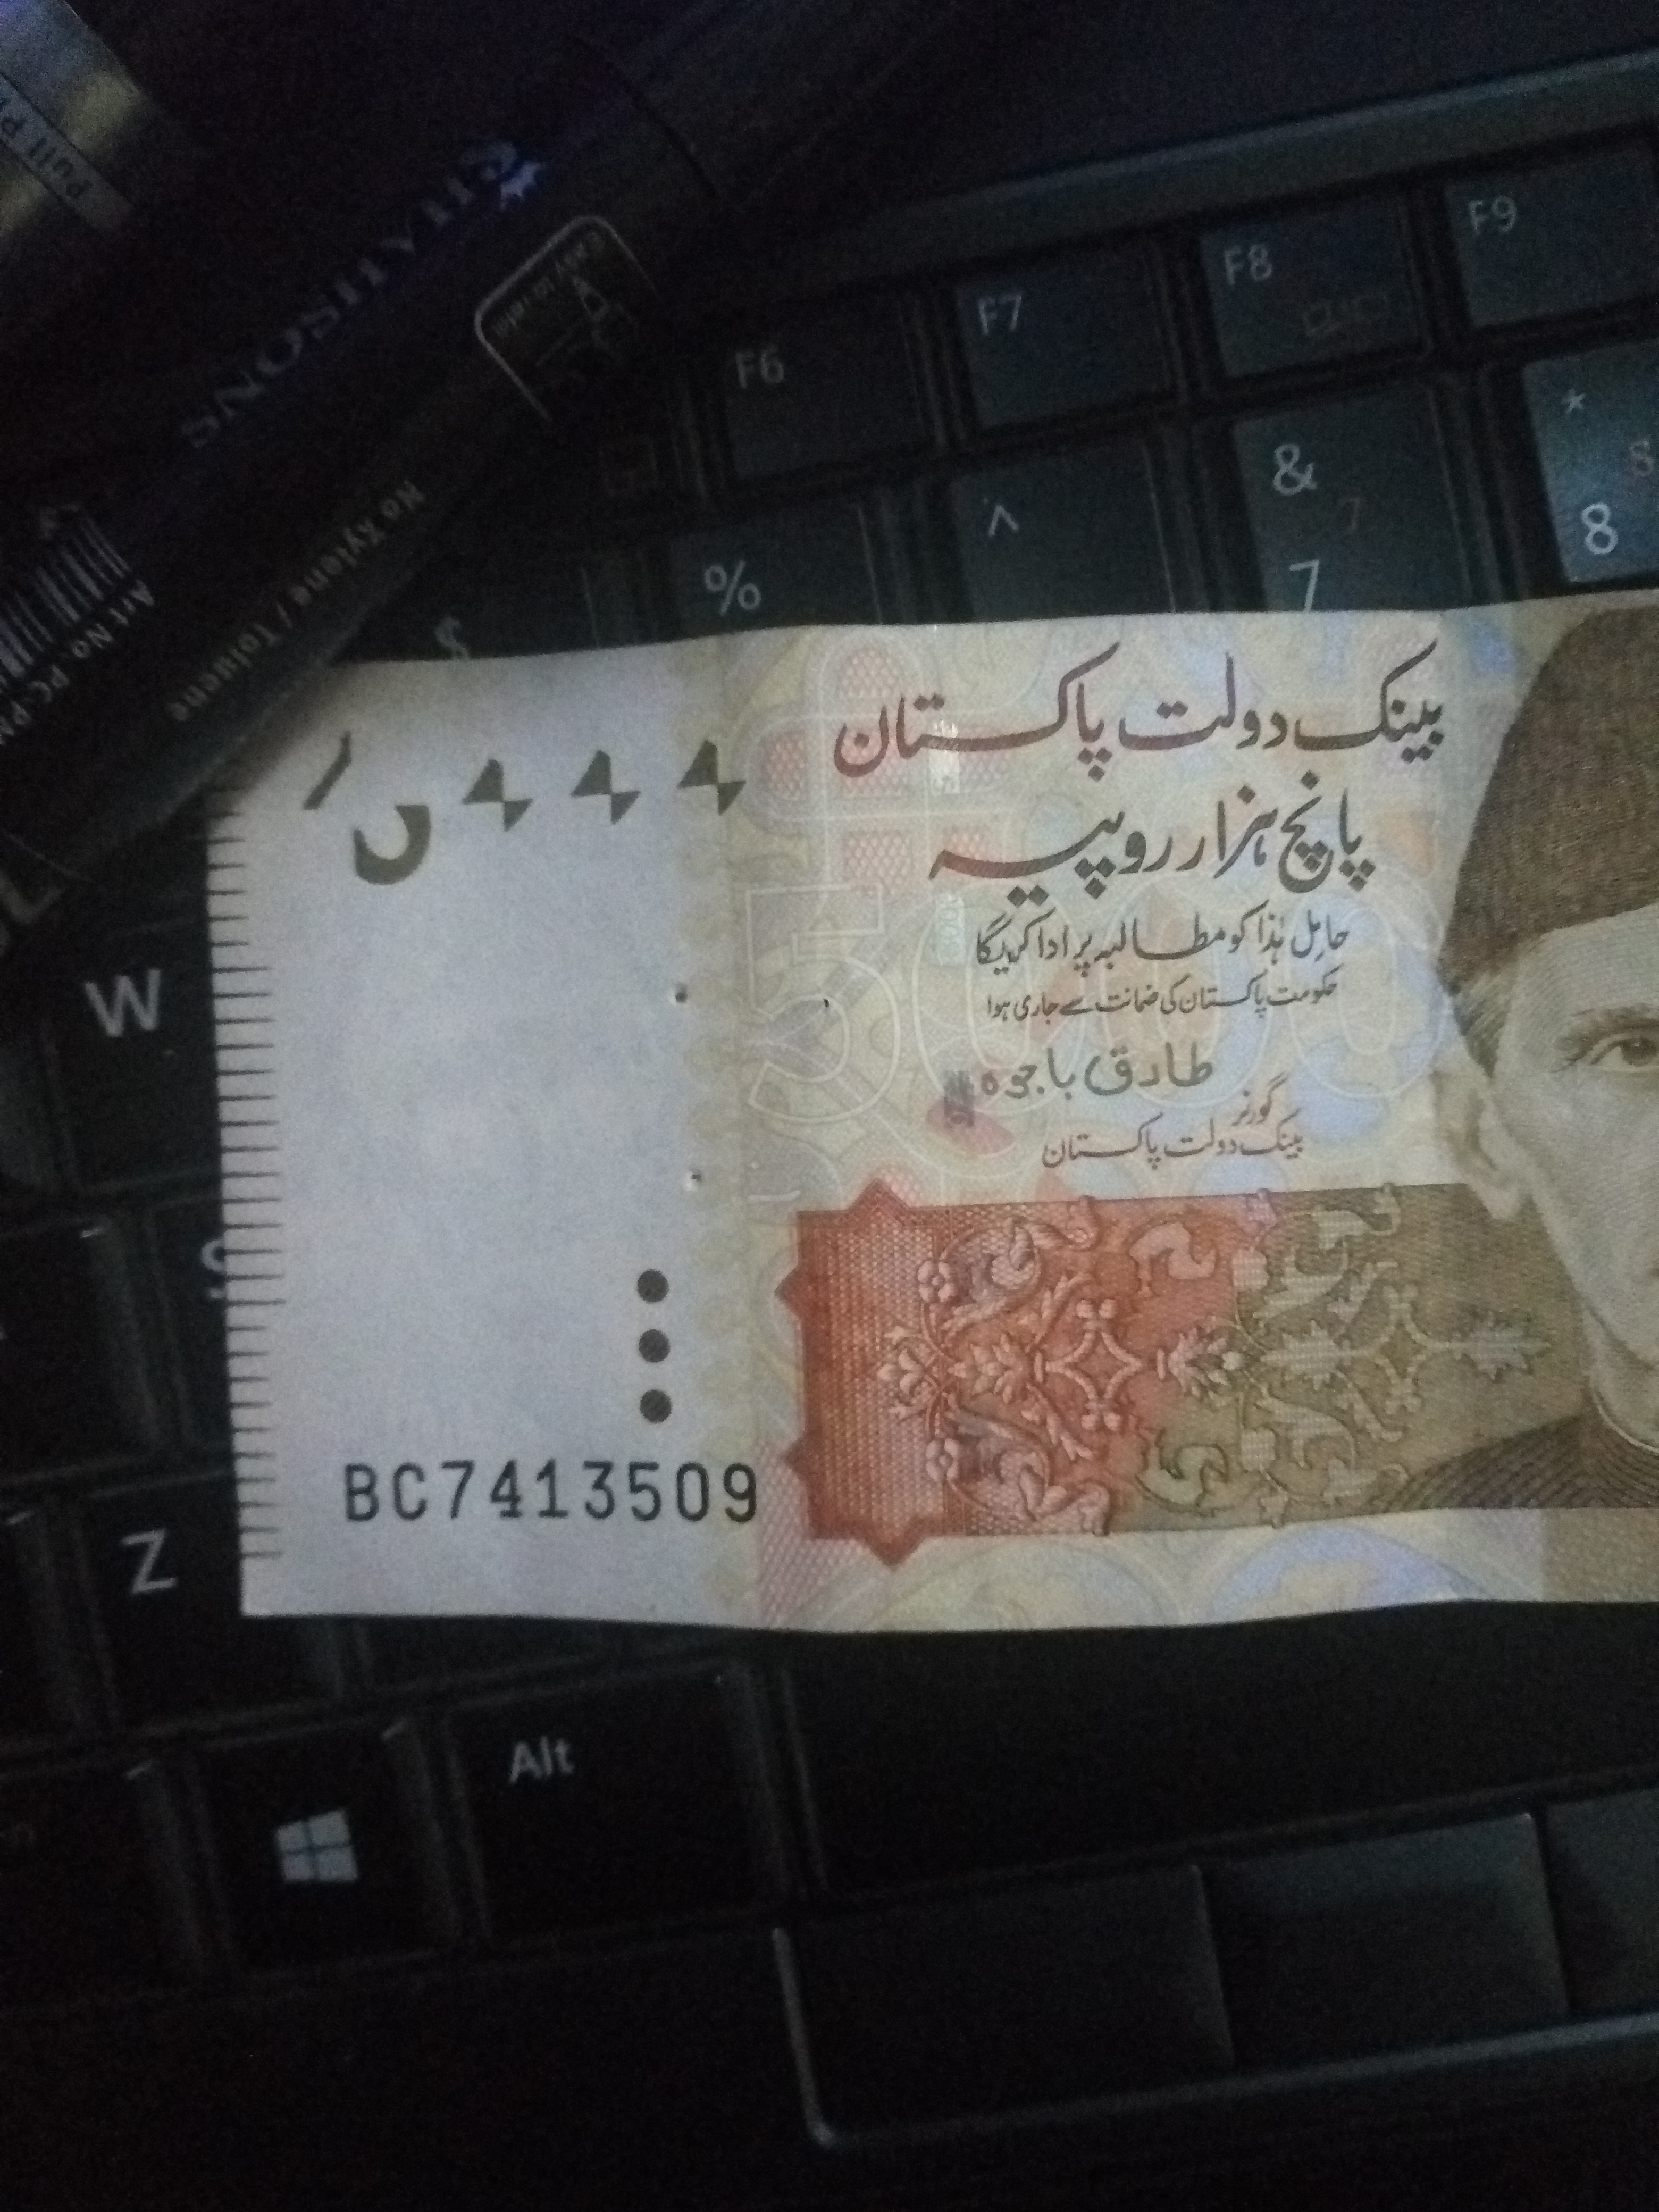5000 rupee: (232, 597, 1643, 1723)
